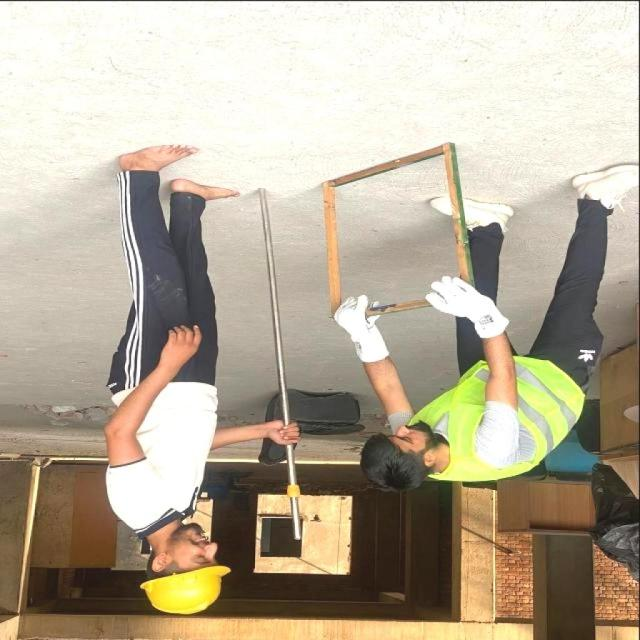Gloves-Detection: (422, 277, 508, 343), (329, 297, 388, 365)
